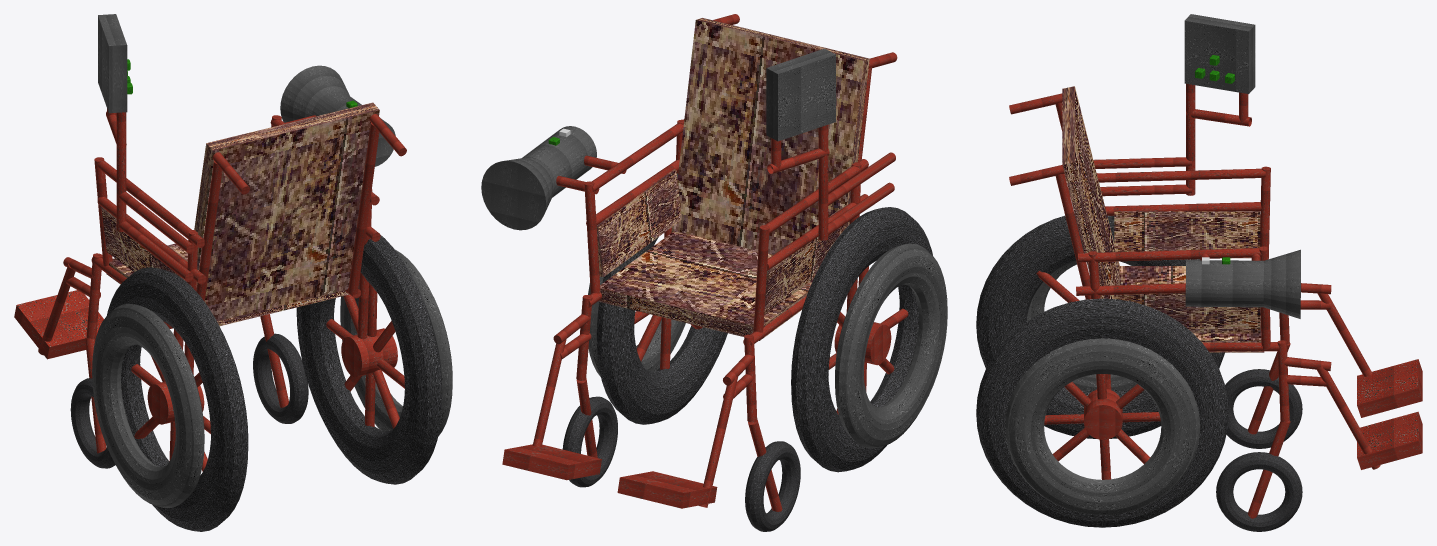
Rendered from кресло 3.glb.
The picture shows the model from 3 angles, left to right: view 1: azimuth 30°, elevation 25°; view 2: azimuth 150°, elevation 25°; view 3: azimuth 270°, elevation 25°; orthographic projection. The views are drawn at different scales.
Visible parts, largest first — view 1: кожа, Тор, Тор.001, Тор.003, каркас, Цилиндр.034, Куб.004, Тор.002, Цилиндр.050, Тор.004, Куб.006, Цилиндр.056 (+3 smaller); view 2: кожа, каркас, Тор.001, Тор.003, Тор, Куб.006, Куб.004, Цилиндр.056, Цилиндр.050, Тор.005, Тор.004, Цилиндр.053 (+3 smaller); view 3: Тор, Тор.002, каркас, кожа, Тор.001, Куб.004, Куб.006, Цилиндр.034, Цилиндр.053, Тор.004, Цилиндр.050, Тор.005 (+3 smaller).
Part boxes in pixels (<box>): кожа: <box>101,102,379,326</box>; Тор: <box>296,235,442,484</box>; Тор.001: <box>107,267,248,531</box>; Тор.003: <box>92,303,204,507</box>; каркас: <box>38,114,406,453</box>; Цилиндр.034: <box>326,283,404,428</box>; Куб.004: <box>14,290,172,359</box>; Тор.002: <box>340,249,452,436</box>; Цилиндр.050: <box>106,108,194,281</box>; Тор.004: <box>253,333,308,423</box>; Куб.006: <box>98,14,127,113</box>; Цилиндр.056: <box>280,65,349,122</box>; кожа: <box>596,18,869,340</box>; каркас: <box>532,14,897,511</box>; Тор.001: <box>791,207,932,472</box>; Тор.003: <box>835,243,947,448</box>; Тор: <box>596,173,727,424</box>; Куб.006: <box>766,48,835,141</box>; Куб.004: <box>502,444,717,508</box>; Цилиндр.056: <box>481,157,555,230</box>; Цилиндр.050: <box>696,125,895,240</box>; Тор.005: <box>745,441,800,531</box>; Тор.004: <box>562,396,617,487</box>; Цилиндр.053: <box>522,126,596,197</box>; Тор: <box>976,298,1228,527</box>; Тор.002: <box>1005,338,1200,515</box>; каркас: <box>1009,93,1380,518</box>; кожа: <box>1062,86,1264,352</box>; Тор.001: <box>976,213,1224,438</box>; Куб.004: <box>1357,359,1422,469</box>; Куб.006: <box>1184,14,1255,93</box>; Цилиндр.034: <box>1044,374,1160,479</box>; Цилиндр.053: <box>1185,260,1263,307</box>; Тор.004: <box>1216,452,1302,531</box>; Цилиндр.050: <box>1068,83,1251,196</box>; Тор.005: <box>1225,369,1302,448</box>.
Size of the model in its own units: 5.54 by 7.64 by 7.33.
20 materials, 20 textured.
